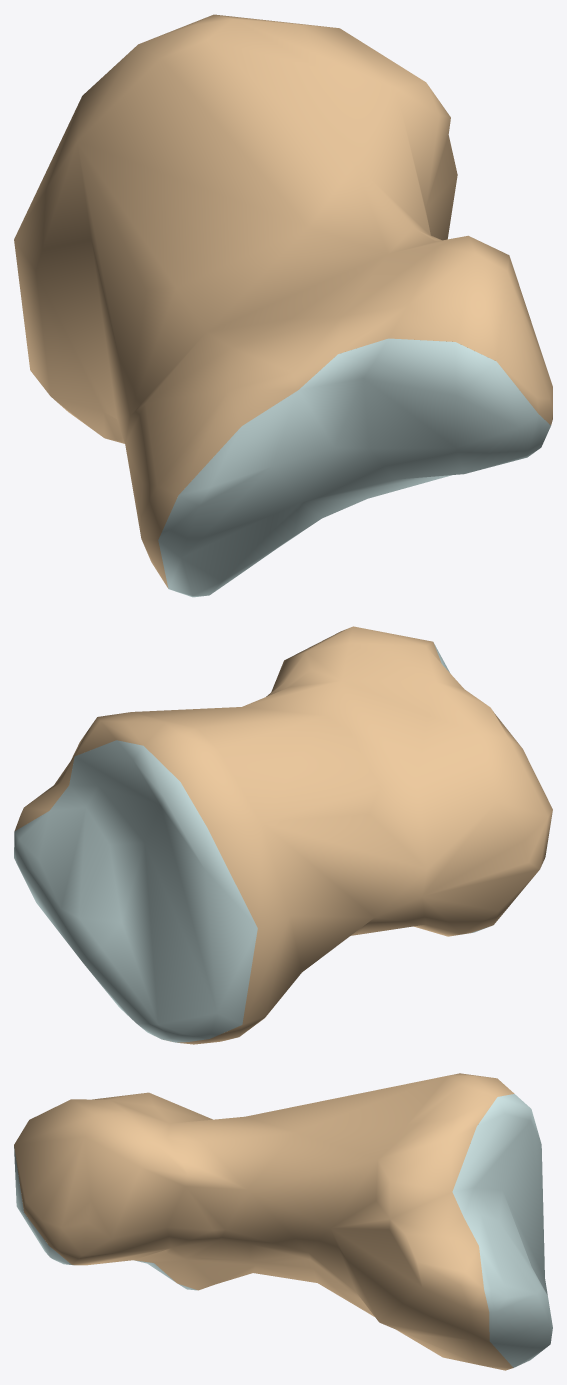
The model's file is Middle_phalanx_of_4th_finger_of_foot.r_Generated_Mesh_From_X3D..glb.
3 renders of one model, top to bottom at view 1: azimuth 30°, elevation 25°; view 2: azimuth 150°, elevation 25°; view 3: azimuth 270°, elevation 25°, orthographic. The views are drawn at different scales.
Parts seen in each view (by area): view 1: Middle_phalanx_of_4th_finger_of_foot.r_Generated_Mesh_From_X; view 2: Middle_phalanx_of_4th_finger_of_foot.r_Generated_Mesh_From_X; view 3: Middle_phalanx_of_4th_finger_of_foot.r_Generated_Mesh_From_X.
Boxes of the visible parts, x1,y1,x2,y2 form: Middle_phalanx_of_4th_finger_of_foot.r_Generated_Mesh_From_X: [14, 14, 552, 597]; Middle_phalanx_of_4th_finger_of_foot.r_Generated_Mesh_From_X: [14, 626, 552, 1044]; Middle_phalanx_of_4th_finger_of_foot.r_Generated_Mesh_From_X: [14, 1073, 552, 1370].
Size of the model in its own units: 0.0111 by 0.00834 by 0.0141.
